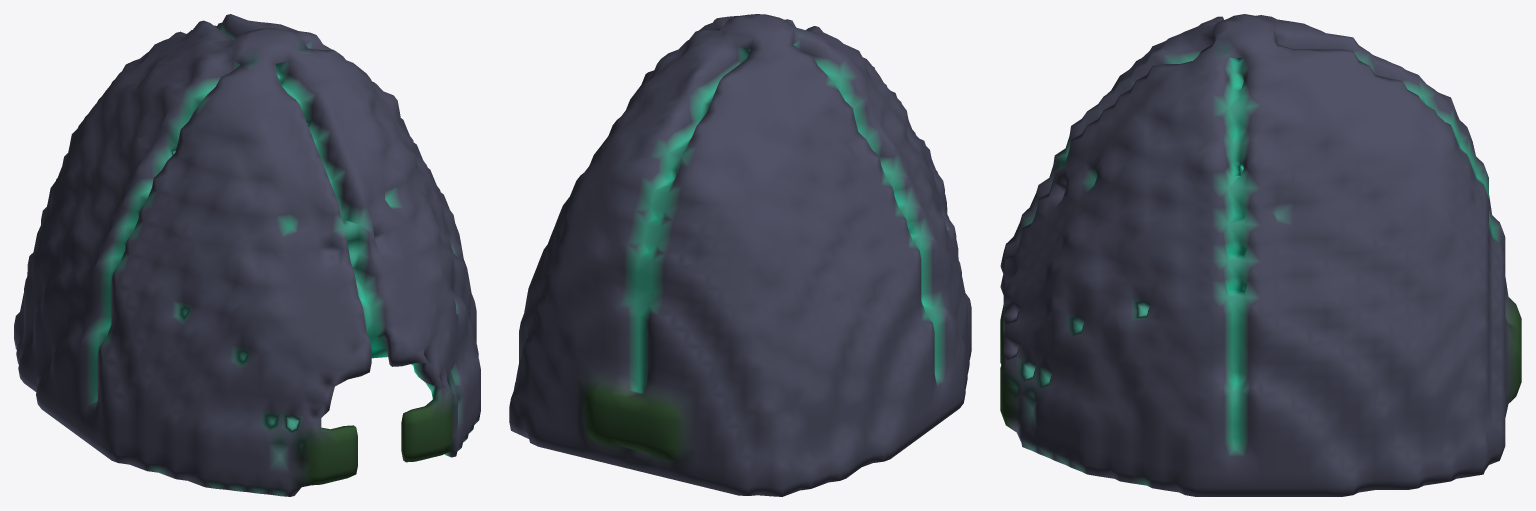
3 views of the same model, side by side, from view 1: azimuth 30°, elevation 25°; view 2: azimuth 150°, elevation 25°; view 3: azimuth 270°, elevation 25° (orthographic). The views are drawn at different scales.
Bounding box in the file's own units: 1.35 × 1.3 × 1.6.
